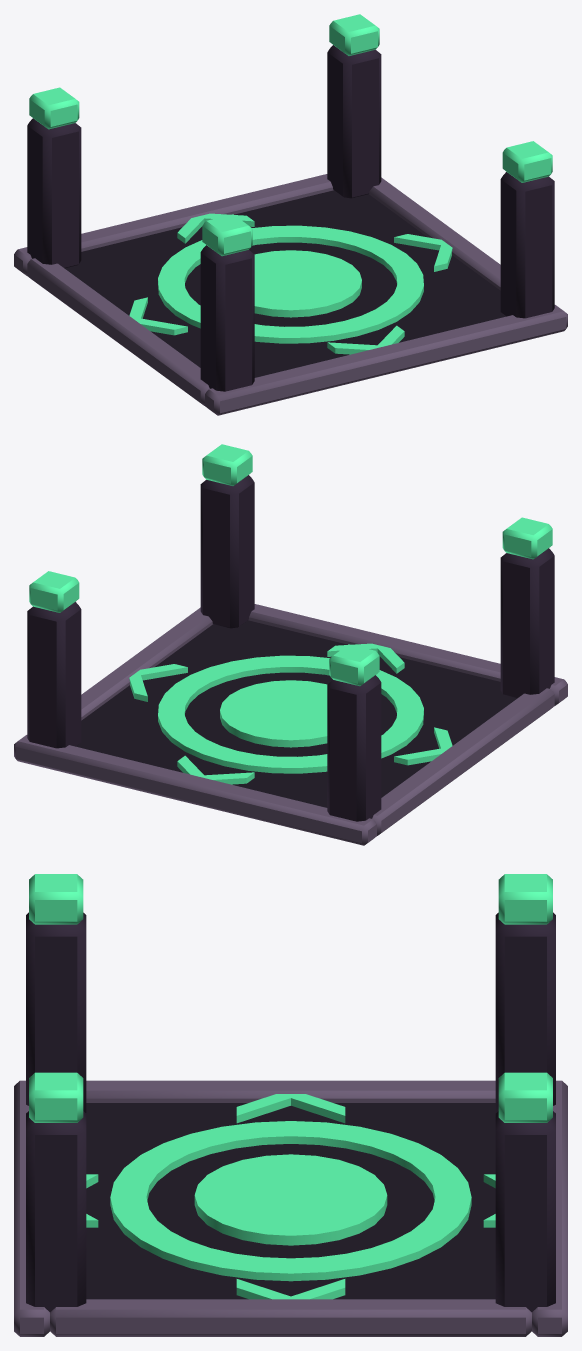
The model's file is exit_pad__lower.glb.
3 renders of one model, top to bottom at view 1: azimuth 30°, elevation 25°; view 2: azimuth 150°, elevation 25°; view 3: azimuth 270°, elevation 25°, orthographic. The views are drawn at different scales.
Visible parts, largest first — view 1: exit_pad; view 2: exit_pad; view 3: exit_pad.
Part boxes in pixels (left/top/right/bottom): exit_pad: left=14, top=14, right=567, bottom=415; exit_pad: left=14, top=444, right=567, bottom=845; exit_pad: left=14, top=874, right=567, bottom=1336.
Size of the model in its own units: 0.92 by 0.44 by 0.92.
